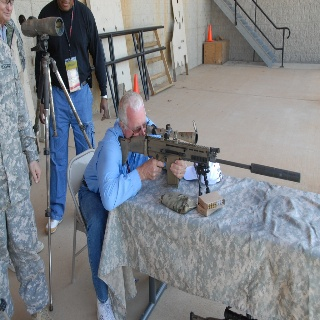rifle: (119, 120, 303, 198)
